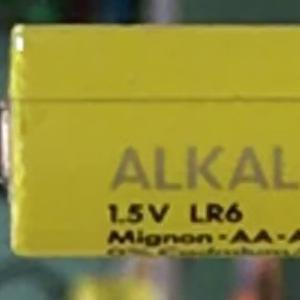ALK: (104, 151, 221, 198)
